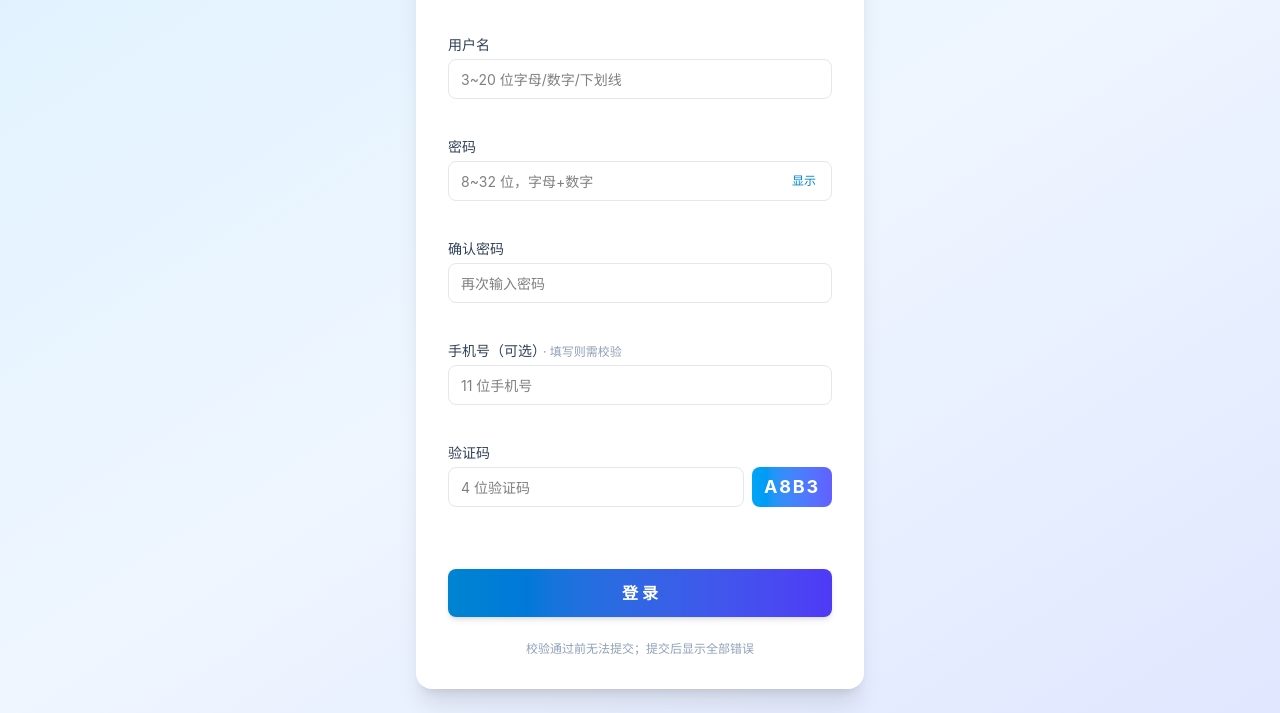
Scenario: LoginForm › 提交按钮点击后显示全部错误
(page scrolled)
Click the button "登 录" at [640, 593], box [448, 569, 832, 617]
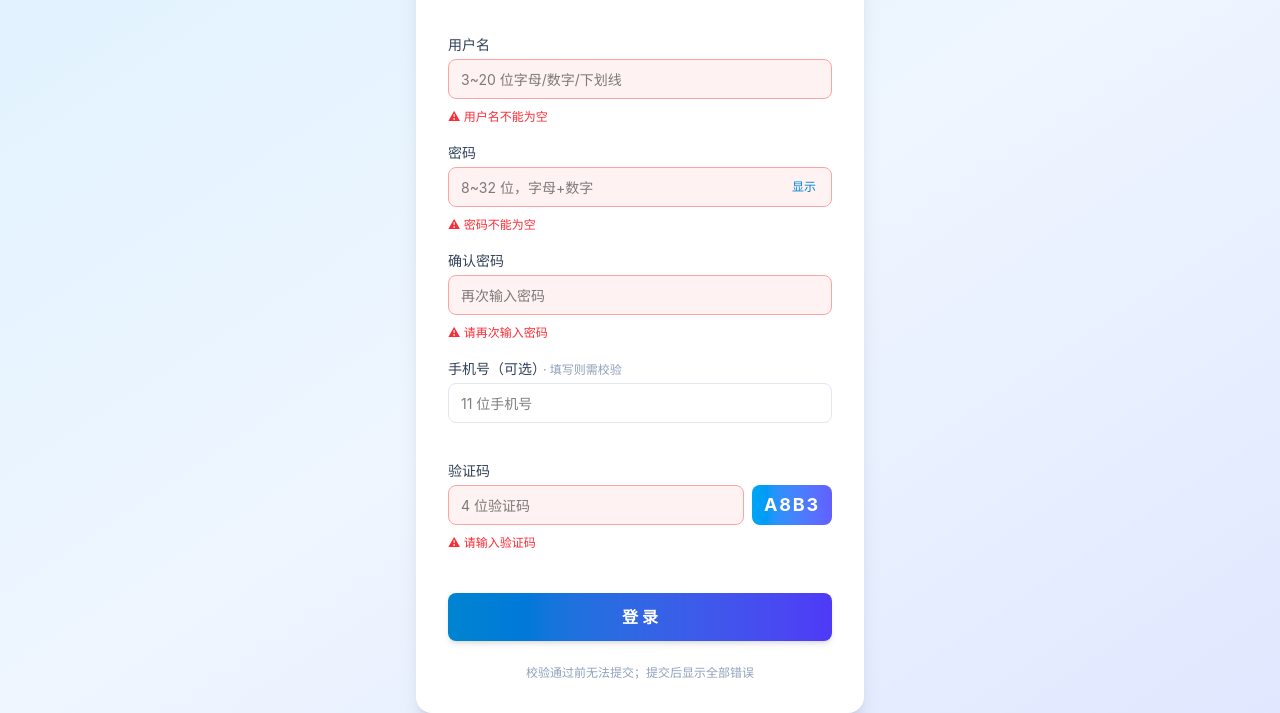
Result: the text "⚠ 用户名不能为空" is shown 4 times at [448, 109, 548, 124]; [448, 217, 536, 232]; [448, 325, 548, 340]; [448, 535, 536, 550]
